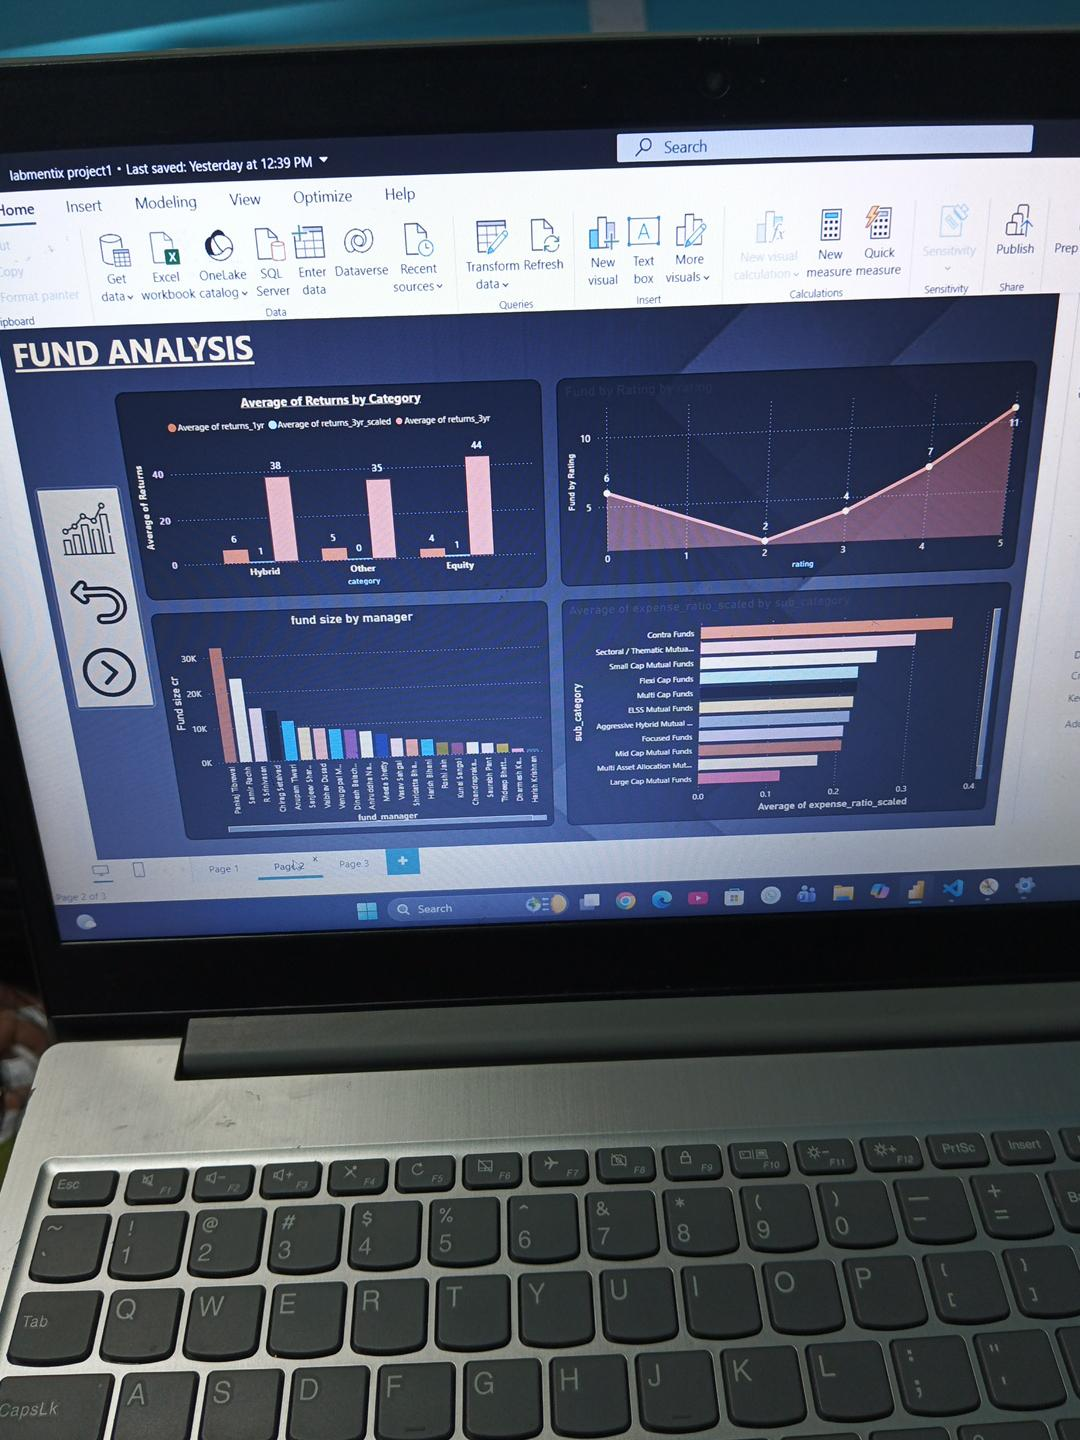

The dashboard page shown, as its layout file describes it:
{"tool":"powerbi","page":{"name":"Page 2","canvas":[1280,720],"ordinal":1},"visuals":[{"type":"clusteredColumnChart","title":"Average of Returns by Category","fields":{"Category":["Sheet1.category"],"Y":["Avg(Sheet1.returns_1yr)","Avg(Sheet1.returns_3yr_scaled)","Avg(Sheet1.returns_3yr)"]},"box":[129.1,78.4,521.2,263],"z":0},{"type":"lineChart","fields":{"Category":["Sheet1.rating"],"Y":["CountNonNull(Sheet1.amc_name)"]},"box":[668.4,78.4,593.6,263],"z":1000},{"type":"lineClusteredColumnComboChart","title":"fund size by manager","fields":{"Category":["Sheet1.fund_manager"],"Y":["Sum(Sheet1.fund_size_cr)"]},"box":[129.1,359.5,521.2,334.2],"z":2000},{"type":"barChart","fields":{"Category":["Sheet1.sub_category"],"Y":["Avg(Sheet1.expense_ratio_scaled)"]},"box":[668.4,359.5,593.6,334.2],"z":3000},{"type":"textbox","box":[10.9,0,404.2,209.9],"z":4000},{"type":"shape","box":[10.9,190.6,107.4,300.4],"z":5000},{"type":"image","box":[27.7,165.3,76,159.3],"z":6000},{"type":"image","box":[25.3,243.7,83.2,195.4],"z":7000},{"type":"image","box":[24.1,292,79.6,293.2],"z":8000}]}

Visuals, with their boxes on the page's 1280x720 design canvas (x1, y1, x2, y2). These are canvas units, not pixel positions in the 1080x1440 screenshot, which may show the page scaled, cropped or inside an application window:
"Average of Returns by Category" clusteredColumnChart: <box>129,78,650,341</box>
lineChart - Sheet1.rating x CountNonNull(Sheet1.amc_name): <box>668,78,1262,341</box>
"fund size by manager" lineClusteredColumnComboChart: <box>129,360,650,694</box>
barChart - Sheet1.sub_category x Avg(Sheet1.expense_ratio_scaled): <box>668,360,1262,694</box>
textbox: <box>11,0,415,210</box>
shape: <box>11,191,118,491</box>
image: <box>28,165,104,325</box>
image: <box>25,244,108,439</box>
image: <box>24,292,104,585</box>
